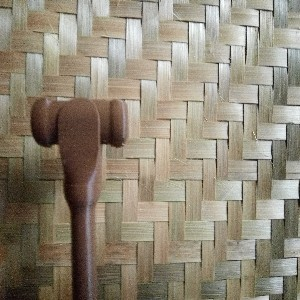palu: (30, 95, 130, 300)
